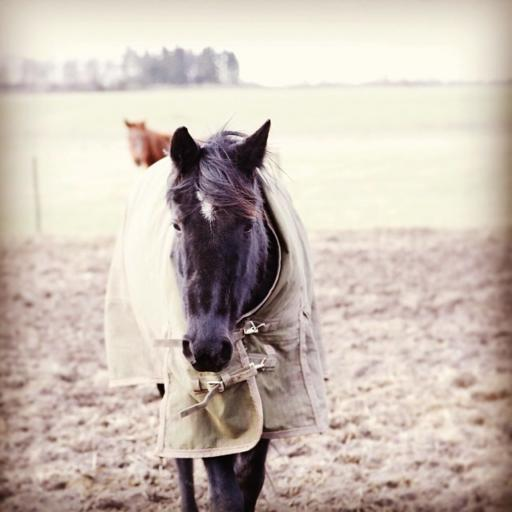horse: (102, 118, 334, 512), (115, 115, 185, 171)
